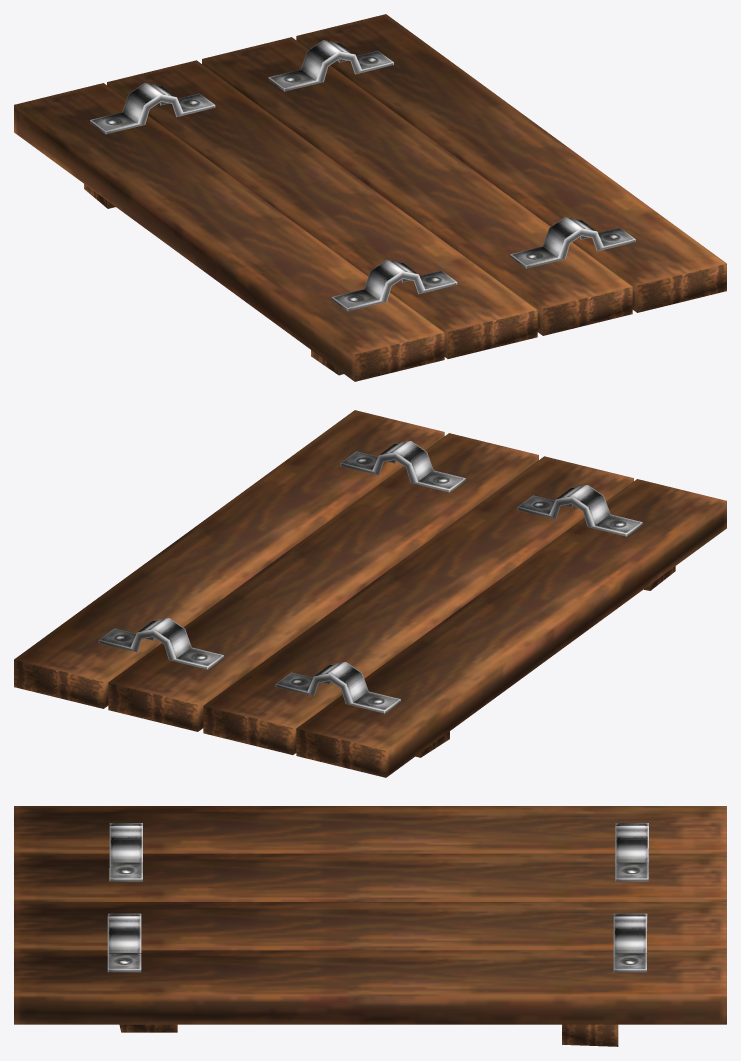
Rendered from INST_SWORDLIGHT_TORTWALL.fbx.
3 views of the same model, one above another, from view 1: azimuth 30°, elevation 25°; view 2: azimuth 150°, elevation 25°; view 3: azimuth 270°, elevation 25° (orthographic). The views are drawn at different scales.
Parts seen in each view (by area): view 1: INST_SWORDLIGHT_TORTWALL; view 2: INST_SWORDLIGHT_TORTWALL; view 3: INST_SWORDLIGHT_TORTWALL.
Part boxes in pixels (x1,y1,x2,y2): INST_SWORDLIGHT_TORTWALL: (14,14,726,381); INST_SWORDLIGHT_TORTWALL: (14,410,726,777); INST_SWORDLIGHT_TORTWALL: (14,806,726,1046).
Bounding box in the file's own units: 12222 × 2412 × 19392.
2 materials, 2 textured.
